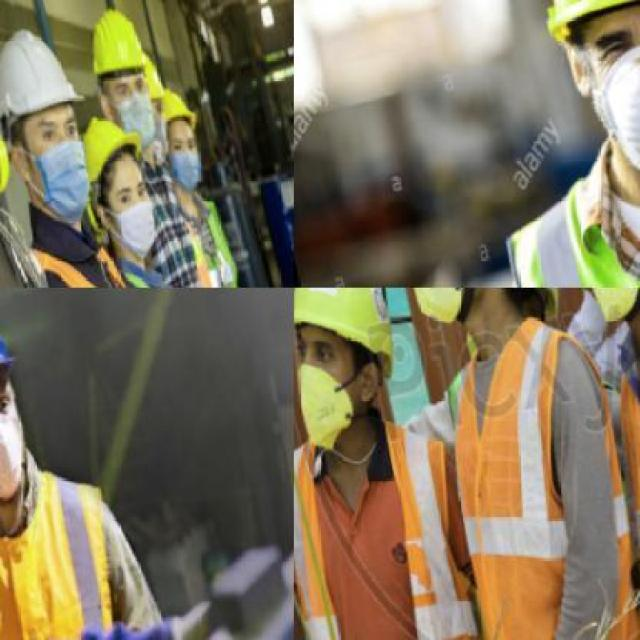Vest: (420, 303, 638, 639), (294, 411, 492, 638), (0, 454, 188, 638), (483, 108, 639, 286), (18, 209, 162, 286), (172, 194, 274, 286), (117, 246, 243, 286)
